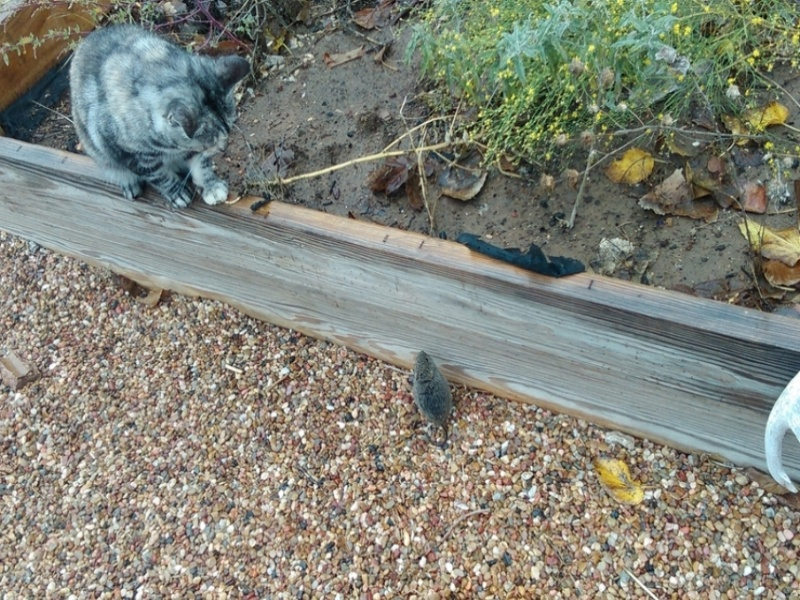cat: (64, 27, 252, 215)
